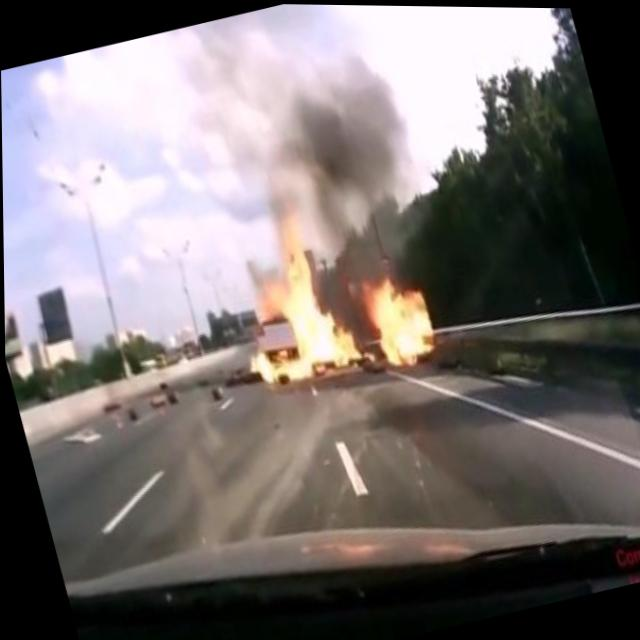fire: (207, 189, 446, 412)
